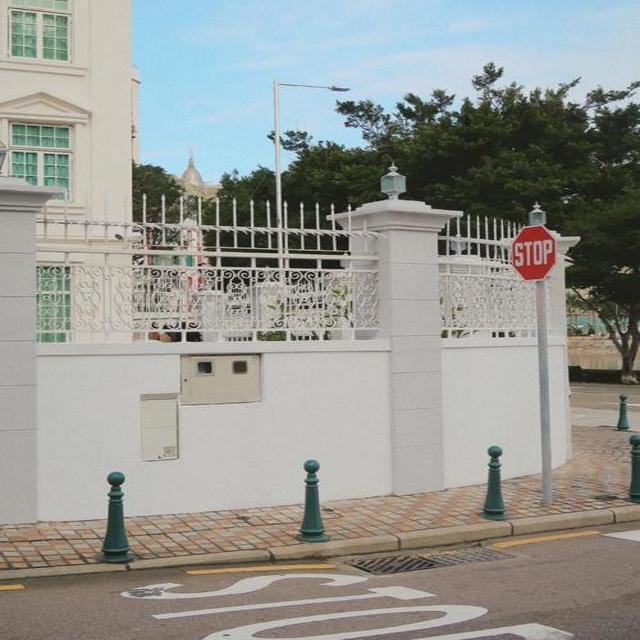curb: (130, 505, 639, 570), (0, 564, 119, 579)
